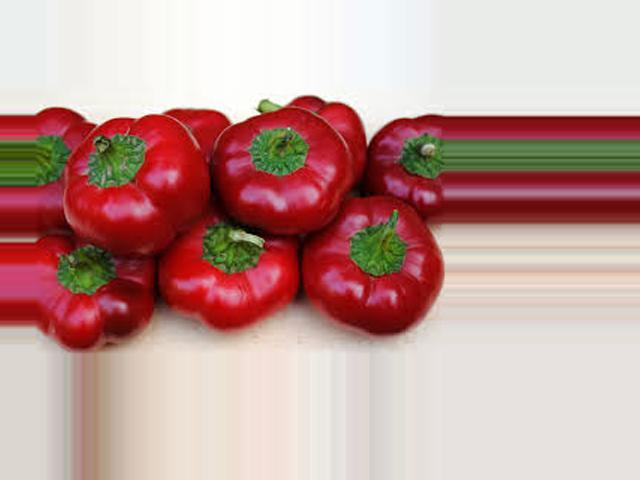bell_pepper: (173, 99, 230, 157)
